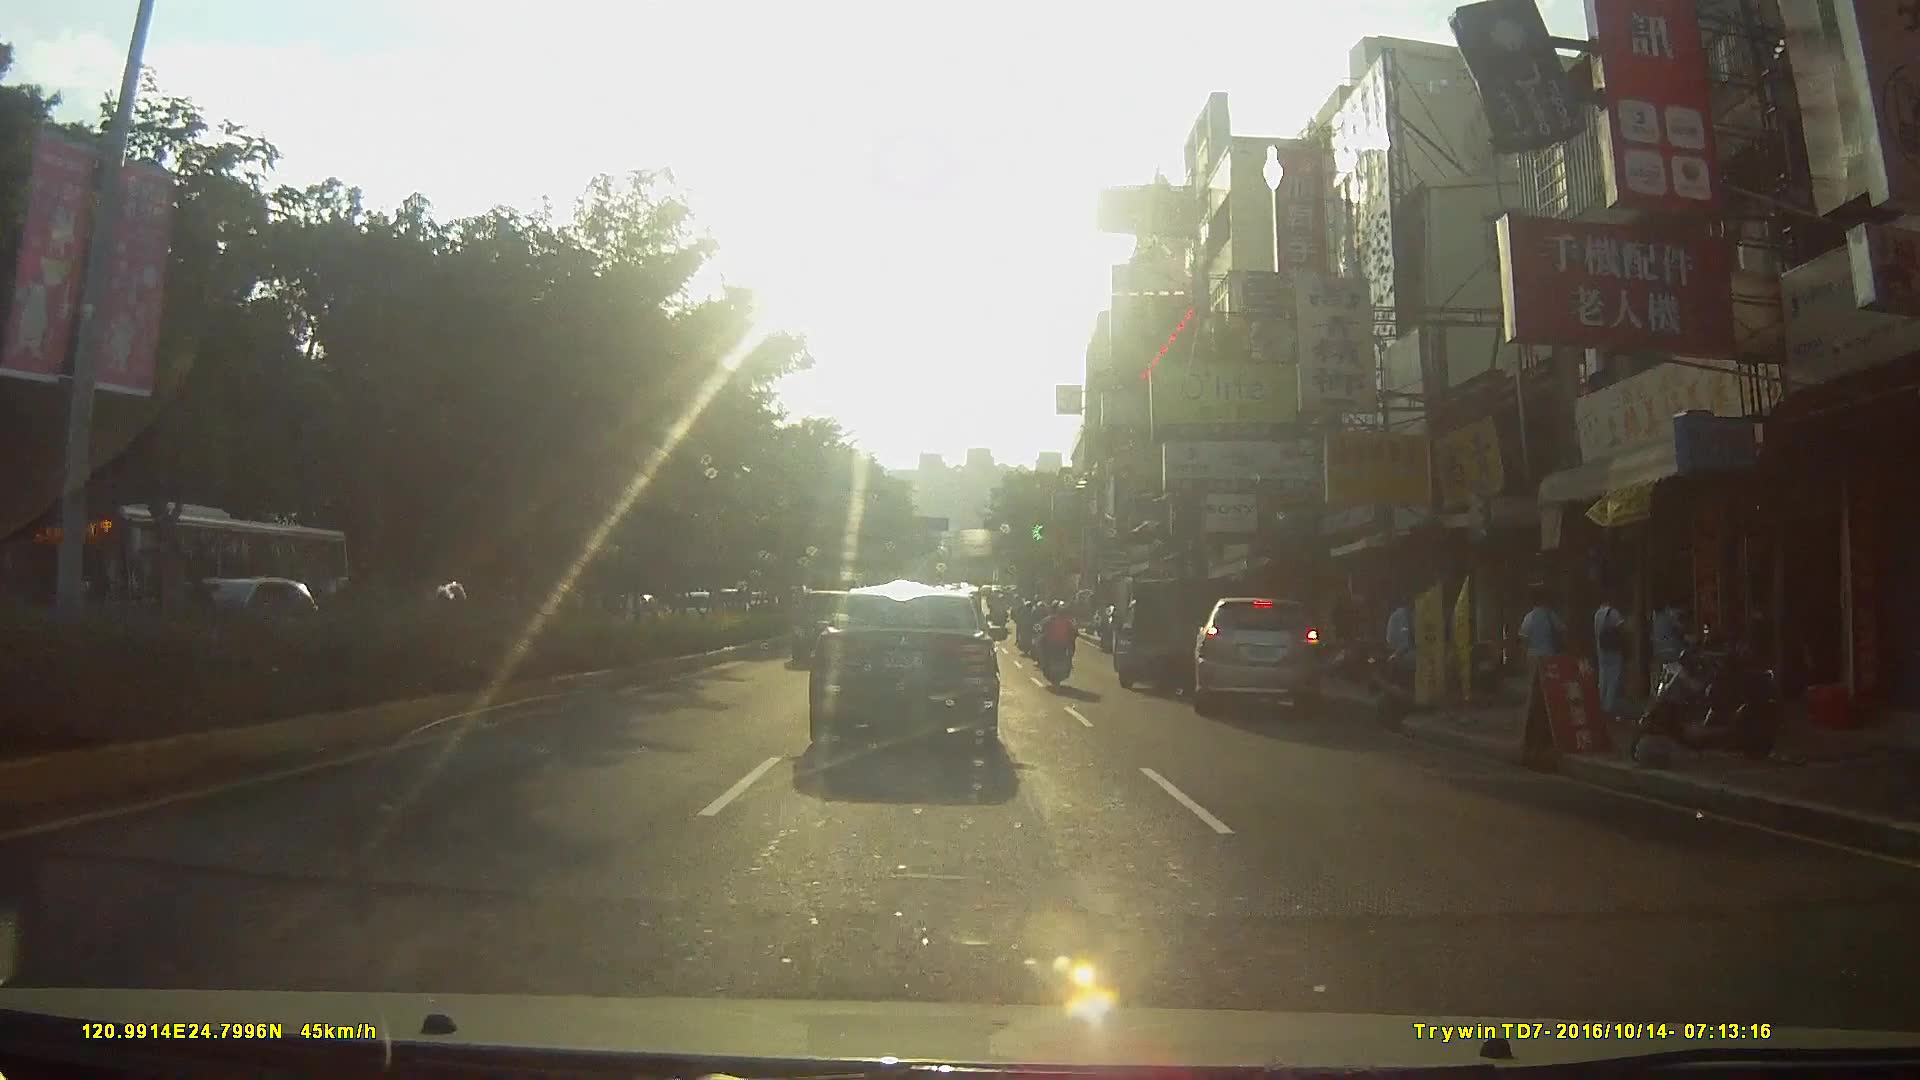pedestrian: (1517, 584, 1567, 722), (1592, 586, 1629, 731), (1643, 584, 1682, 709), (1386, 591, 1423, 692)
rider: (1036, 595, 1080, 692), (1016, 598, 1042, 660)
vehicle: (63, 504, 353, 666), (811, 592, 1029, 774), (1188, 596, 1339, 728), (1105, 564, 1232, 700)
